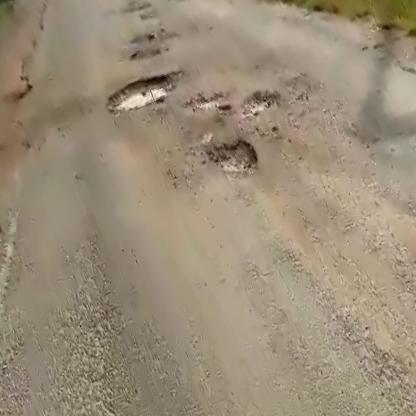pothole: (99, 60, 186, 123), (204, 128, 266, 188), (233, 77, 285, 126), (184, 84, 233, 124), (124, 23, 168, 56)
